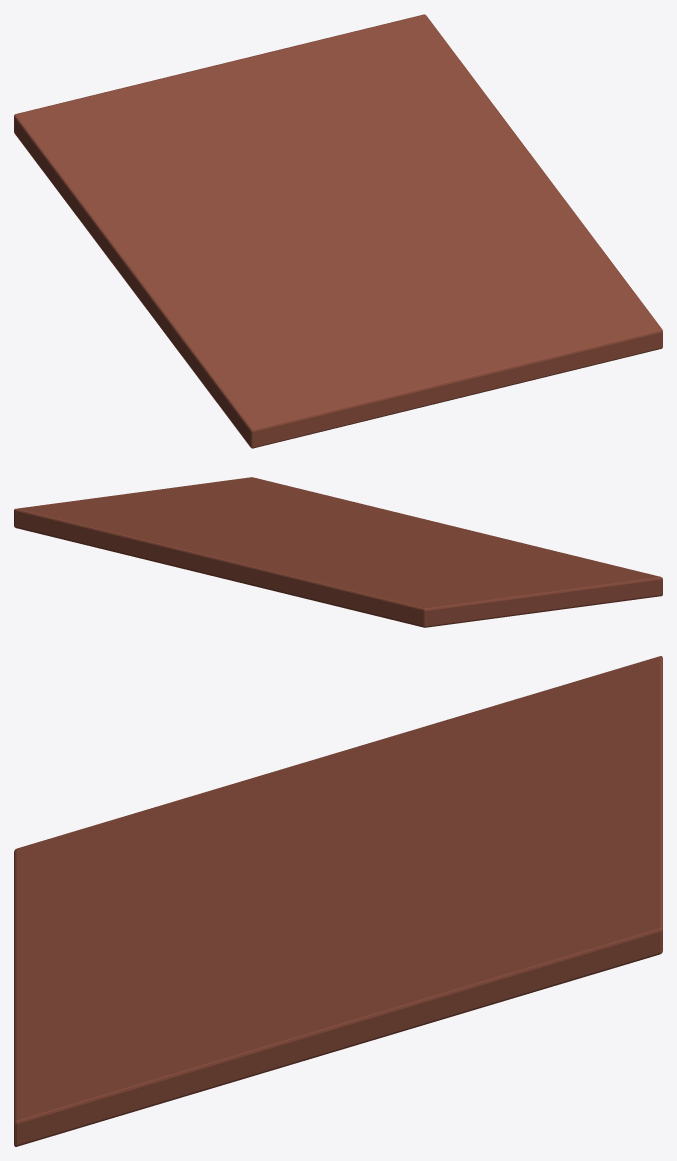
Rendered from roof_shed_4x4.glb.
3 views of the same model, one above another, from view 1: azimuth 30°, elevation 25°; view 2: azimuth 150°, elevation 25°; view 3: azimuth 270°, elevation 25° (orthographic). The views are drawn at different scales.
Visible parts, largest first — view 1: roof_shed; view 2: roof_shed; view 3: roof_shed.
Boxes of the visible parts, <box> form: roof_shed: <box>14,14,662,448</box>; roof_shed: <box>14,477,662,627</box>; roof_shed: <box>14,656,662,1146</box>.
Bounding box in the file's own units: 4 × 1.49 × 4.
